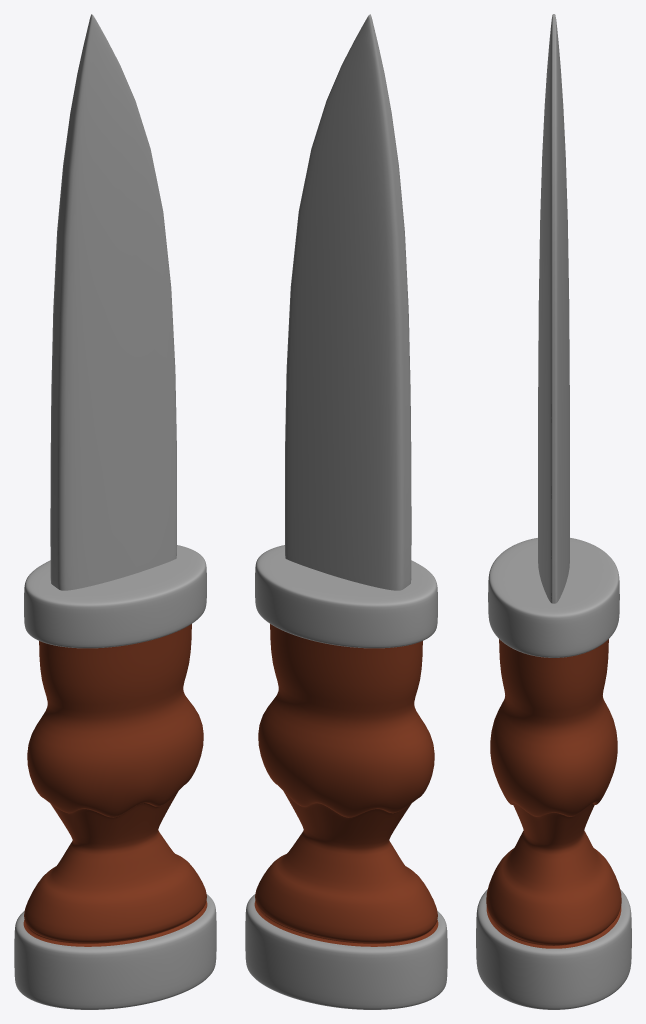
Rendered from dirk-weapon-3d-icon-926619423866.glb.
3 views of the same model, side by side, from view 1: azimuth 30°, elevation 25°; view 2: azimuth 150°, elevation 25°; view 3: azimuth 270°, elevation 25° (orthographic). The views are drawn at different scales.
Visible parts, largest first — view 1: Blade, Handle 1, Handle 2; view 2: Blade, Handle 1, Handle 2; view 3: Handle 1, Handle 2, Blade.
Boxes of the visible parts, bbox=[...] form: Blade: bbox=[50, 14, 176, 590]; Handle 1: bbox=[23, 624, 207, 946]; Handle 2: bbox=[14, 545, 216, 1009]; Blade: bbox=[285, 14, 411, 590]; Handle 1: bbox=[254, 624, 438, 946]; Handle 2: bbox=[245, 545, 447, 1009]; Handle 1: bbox=[486, 639, 621, 948]; Handle 2: bbox=[476, 538, 631, 1009]; Blade: bbox=[538, 14, 569, 603].
Size of the model in its own units: 0.3947 by 1.97 by 0.2943.
